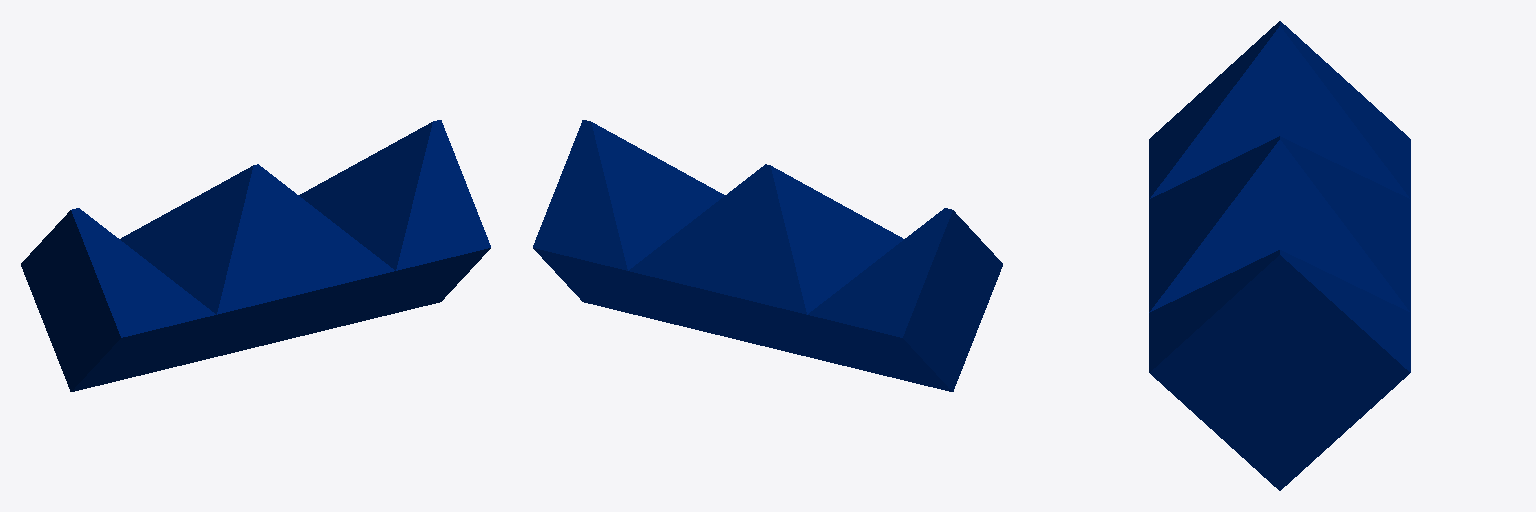
robot.urdf — obj_5:
<robot name="obj_5" version="1.0">
  <link name="link_5">
    <collision name="5-collision.001">
      <origin rpy="0.78540 0.00000 -0.00017" xyz="-0.36817 0.45336 0.08989"/>
      <geometry>
        <mesh filename="../meshes/obj/5-collision.001.obj" scale="0.00500 0.00500 0.00500"/>
      </geometry>
    </collision>
    <collision name="5-collision.002">
      <origin rpy="0.78540 0.00000 -0.00017" xyz="-0.17468 0.42684 0.16944"/>
      <geometry>
        <mesh filename="../meshes/obj/5-collision.002.obj" scale="0.00500 0.00500 0.00500"/>
      </geometry>
    </collision>
    <collision name="5-collision.003">
      <origin rpy="0.78540 0.00000 -0.00017" xyz="-0.36817 0.42689 0.16942"/>
      <geometry>
        <mesh filename="../meshes/obj/5-collision.003.obj" scale="0.00500 0.00500 0.00500"/>
      </geometry>
    </collision>
    <collision name="5-collision.004">
      <origin rpy="0.78540 0.00000 -0.00017" xyz="-0.56168 0.42691 0.16944"/>
      <geometry>
        <mesh filename="../meshes/obj/5-collision.004.obj" scale="0.00500 0.00500 0.00500"/>
      </geometry>
    </collision>
    <collision name="5-collision.005">
      <origin rpy="0.78540 0.00000 -0.00017" xyz="-0.22390 0.37378 0.15171"/>
      <geometry>
        <mesh filename="../meshes/obj/5-collision.005.obj" scale="0.00500 0.00500 0.00500"/>
      </geometry>
    </collision>
    <collision name="5-collision.006">
      <origin rpy="0.78540 0.00000 -0.00017" xyz="-0.29462 0.37384 0.15171"/>
      <geometry>
        <mesh filename="../meshes/obj/5-collision.006.obj" scale="0.00500 0.00500 0.00500"/>
      </geometry>
    </collision>
    <collision name="5-collision.007">
      <origin rpy="0.78540 0.00000 -0.00017" xyz="-0.44175 0.37382 0.15171"/>
      <geometry>
        <mesh filename="../meshes/obj/5-collision.007.obj" scale="0.00500 0.00500 0.00500"/>
      </geometry>
    </collision>
    <collision name="5-collision.008">
      <origin rpy="0.78540 0.00000 -0.00017" xyz="-0.51247 0.37387 0.15171"/>
      <geometry>
        <mesh filename="../meshes/obj/5-collision.008.obj" scale="0.00500 0.00500 0.00500"/>
      </geometry>
    </collision>
    <collision name="5-collision.009">
      <origin rpy="0.78540 0.00000 -0.00017" xyz="-0.59319 0.37387 0.11642"/>
      <geometry>
        <mesh filename="../meshes/obj/5-collision.009.obj" scale="0.00500 0.00500 0.00500"/>
      </geometry>
    </collision>
    <collision name="5-collision.010">
      <origin rpy="0.78540 0.00000 -0.00017" xyz="-0.56169 0.32081 0.16944"/>
      <geometry>
        <mesh filename="../meshes/obj/5-collision.010.obj" scale="0.00500 0.00500 0.00500"/>
      </geometry>
    </collision>
    <collision name="5-collision.011">
      <origin rpy="0.78540 0.00000 -0.00017" xyz="-0.36819 0.32076 0.16942"/>
      <geometry>
        <mesh filename="../meshes/obj/5-collision.011.obj" scale="0.00500 0.00500 0.00500"/>
      </geometry>
    </collision>
    <collision name="5-collision.012">
      <origin rpy="0.78540 0.00000 -0.00017" xyz="-0.17469 0.32075 0.16944"/>
      <geometry>
        <mesh filename="../meshes/obj/5-collision.012.obj" scale="0.00500 0.00500 0.00500"/>
      </geometry>
    </collision>
    <collision name="5-collision.013">
      <origin rpy="0.78540 0.00000 -0.00017" xyz="-0.36820 0.29430 0.08989"/>
      <geometry>
        <mesh filename="../meshes/obj/5-collision.013.obj" scale="0.00500 0.00500 0.00500"/>
      </geometry>
    </collision>
    <collision name="5-collision.014">
      <origin rpy="0.78540 0.00000 -0.00017" xyz="-0.14319 0.37379 0.11642"/>
      <geometry>
        <mesh filename="../meshes/obj/5-collision.014.obj" scale="0.00500 0.00500 0.00500"/>
      </geometry>
    </collision>
    <inertial>
      <inertia ixx="0.00012" ixy="0.00007" ixz="0.00000" iyy="0.00012" iyz="-0.00000" izz="0.00018"/>
      <origin rpy="0.00000 0.00000 0.00000" xyz="-0.36819 0.37383 0.10652"/>
      <mass value="0.01000"/>
    </inertial>
    <visual name="5">
      <material name="turnarrow_blue"/>
      <origin rpy="0.78540 0.00000 -0.00017" xyz="-0.36818 0.37383 0.15617"/>
      <geometry>
        <mesh filename="../meshes/obj/6 part puzzle cube.004.obj" scale="0.00500 0.00500 0.00500"/>
      </geometry>
    </visual>
  </link>
  <material name="turnarrow_blue">
    <color rgba="0.00000 0.16471 0.44314 1.00000"/>
  </material>
</robot>

--- Render facts (derived) ---
3 views of the same robot in one strip: view 1: azimuth 30°, elevation 25°; view 2: azimuth 150°, elevation 25°; view 3: azimuth 270°, elevation 25° (orthographic).
Model obj_5 with 1 links and 0 joints (none), rooted at link_5, posed all joints at 0.
Visible links, largest first — view 1: link_5; view 2: link_5; view 3: link_5.
Boxes of the visible links, x1,y1,x2,y2 form: link_5: (21,120,490,391); link_5: (533,120,1002,391); link_5: (1149,21,1410,490).
Bounding box of the posed robot: 0.45 × 0.2122 × 0.2121 m (x, y, z).
1 mesh visuals loaded from 1 distinct referenced files (1 OBJ).